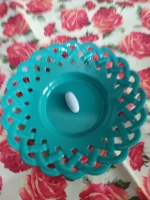Apranax: (64, 91, 80, 114)
